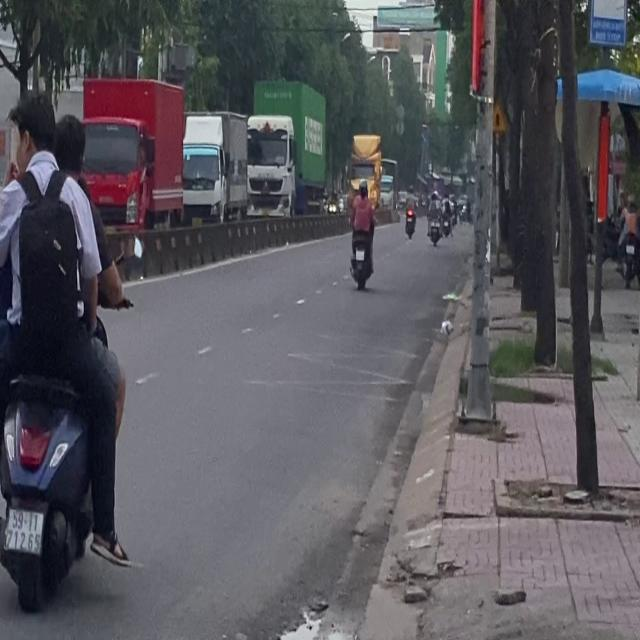licenseplate: (0, 87, 134, 618)
motorcyclist: (8, 89, 57, 172), (52, 110, 86, 176)
nohelmet: (4, 509, 42, 552)
